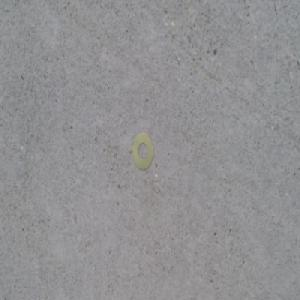Washer: (132, 131, 154, 173)
